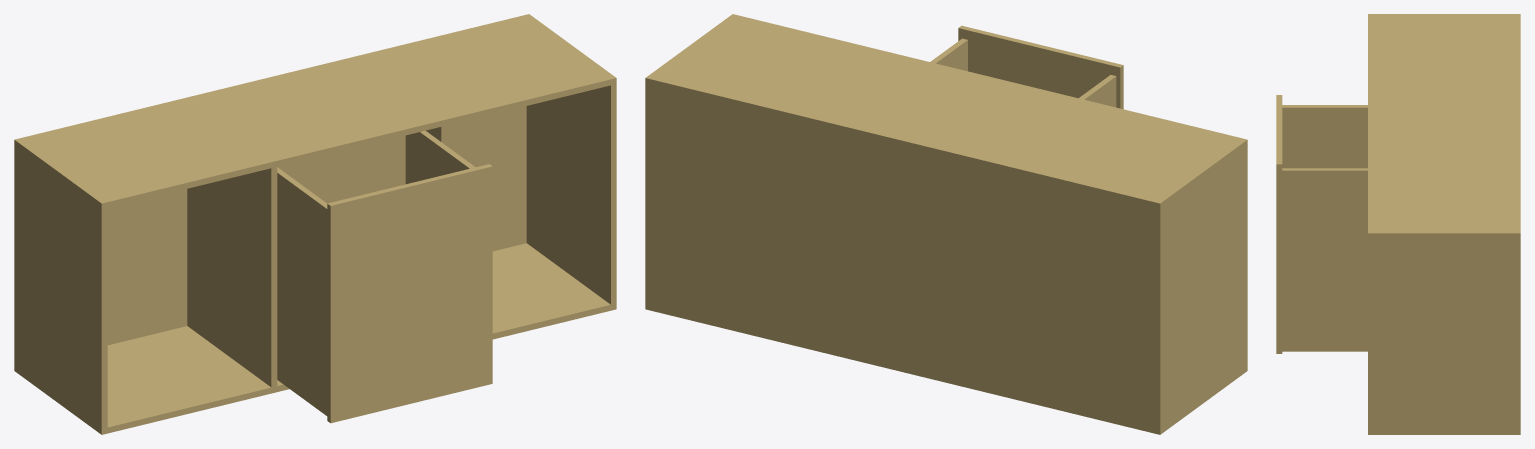
Rendered from meuble_690caebd38dda.glb.
3 renders of one model, left to right at view 1: azimuth 30°, elevation 25°; view 2: azimuth 150°, elevation 25°; view 3: azimuth 270°, elevation 25°, orthographic. The views are drawn at different scales.
Parts seen in each view (by area): view 1: world; view 2: world; view 3: world.
Boxes of the visible parts, bbox=[...] form: world: bbox=[14, 14, 616, 434]; world: bbox=[645, 14, 1247, 434]; world: bbox=[1276, 14, 1520, 434].
Size of the model in its own units: 1.7 by 0.73 by 0.8.
